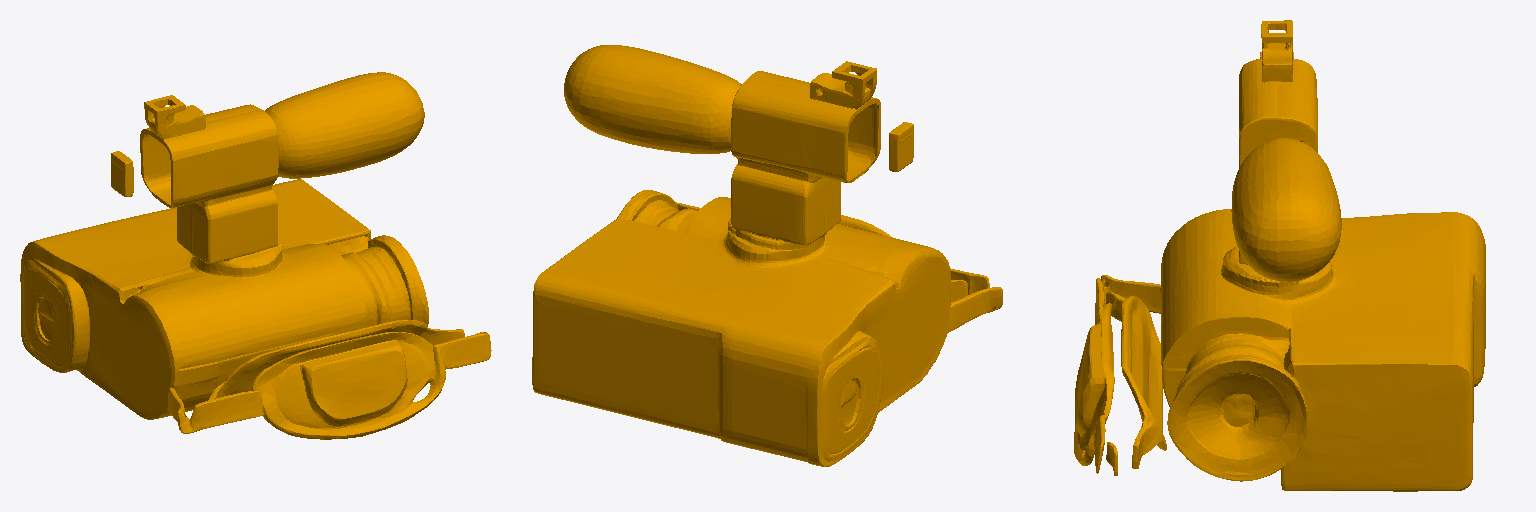
robot.urdf — sample:
<?xml version="1.0" ?>
<robot name="sample">
   <link name="sample">
      <visual>
         <origin xyz="0 0 0" rpy="1.5708 0.0 0.0"/>
         <geometry>
            <mesh filename="mesh/sample.obj" scale="1.0 1.0 1.0"/>
         </geometry>
      </visual>
      <collision>
         <origin xyz="0 0 0" rpy="1.5708 0.0 0.0"/>
         <geometry>
            <mesh filename="mesh/sample_collision.obj" scale="1.0 1.0 1.0"/>
         </geometry>
         <gazebo>
            <mu1>0.60</mu1>
            <mu2>0.50</mu2>
         </gazebo>
      </collision>
      <inertial>
         <mass value="1.0000"/>
         <origin xyz="0 0 0"/>
         <inertia ixx="1.0" ixy="0.0" ixz="0.0" iyy="1.0" iyz="0.0" izz="1.0"/>
      </inertial>
      <extra_info>
         <scale>0.150518</scale>
         <version>v0.1.7</version>
         <category>camera</category>
         <description>black handheld video camera with lens and viewfinder</description>
         <min_height>0.12</min_height>
         <max_height>0.15</max_height>
         <real_height>0.135</real_height>
         <min_mass>0.8</min_mass>
         <max_mass>1.2</max_mass>
         <color>black</color>
         <rgba>[0.0, 0.0, 0.0, 1.0]</rgba>
         <generate_time>20260610163616</generate_time>
         <gs_model>mesh/sample_gs.ply</gs_model>
      </extra_info>
   </link>
   <custom_data>
      <quality>
         <MeshGeoChecker>YES</MeshGeoChecker>
         <ImageSegChecker>NO, object has visible background artifacts and incomplete edges.</ImageSegChecker>
         <ImageAestheticChecker>4.562601685523987</ImageAestheticChecker>
         <overall>NO</overall>
      </quality>
   </custom_data>
</robot>

--- What the picture shows (computed from the rendered views, not written in the file) ---
The picture shows the robot from 3 angles, left to right: view 1: azimuth 30°, elevation 25°; view 2: azimuth 150°, elevation 25°; view 3: azimuth 270°, elevation 25°; orthographic projection.
Model sample with 1 links and 0 joints (none), rooted at sample, posed every joint at zero.
Links seen in each view (by area): view 1: sample; view 2: sample; view 3: sample.
Link boxes in pixels (box(x1,y1,x2,y2)): sample: box(20, 72, 491, 439); sample: box(532, 45, 1002, 466); sample: box(1074, 20, 1485, 491).
Size in the robot's own frame: 0.1505 by 0.1448 by 0.135 metres.
Meshes: 1 distinct files referenced, 1 mesh visuals loaded (1 OBJ).
